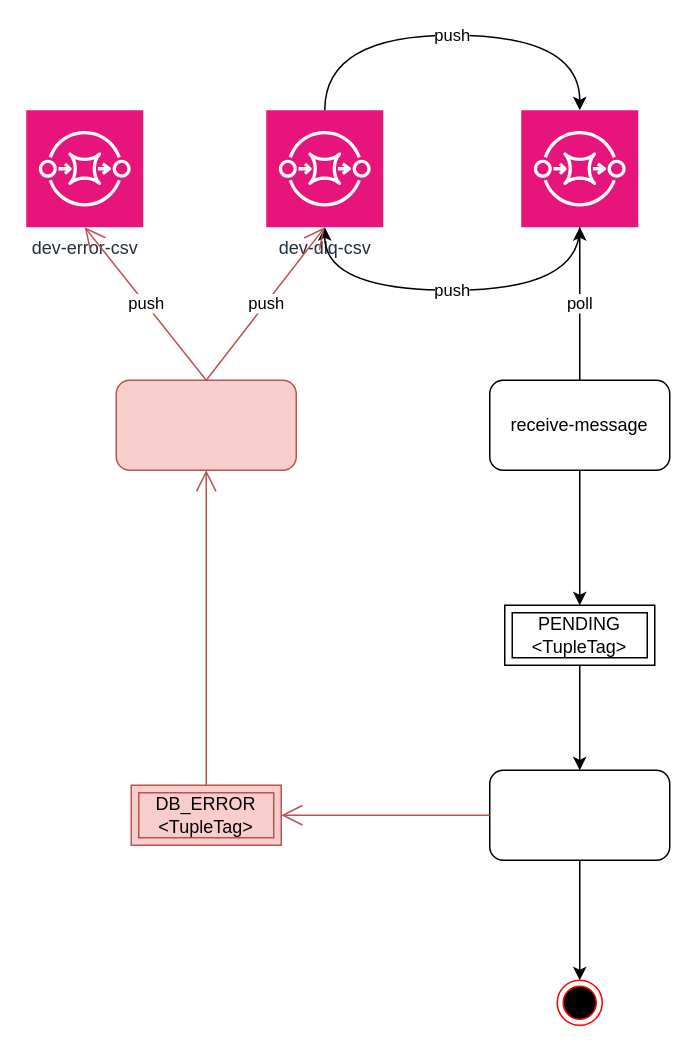
Some shapes in this 696 by 1052 pixel diagram are drawn without their labels. Each missing label, with the box of its shape:
dev-queue-csv: (520, 109, 638, 227)
persis-message: (488, 769, 670, 860)
publish-to-queue: (115, 379, 296, 470)
